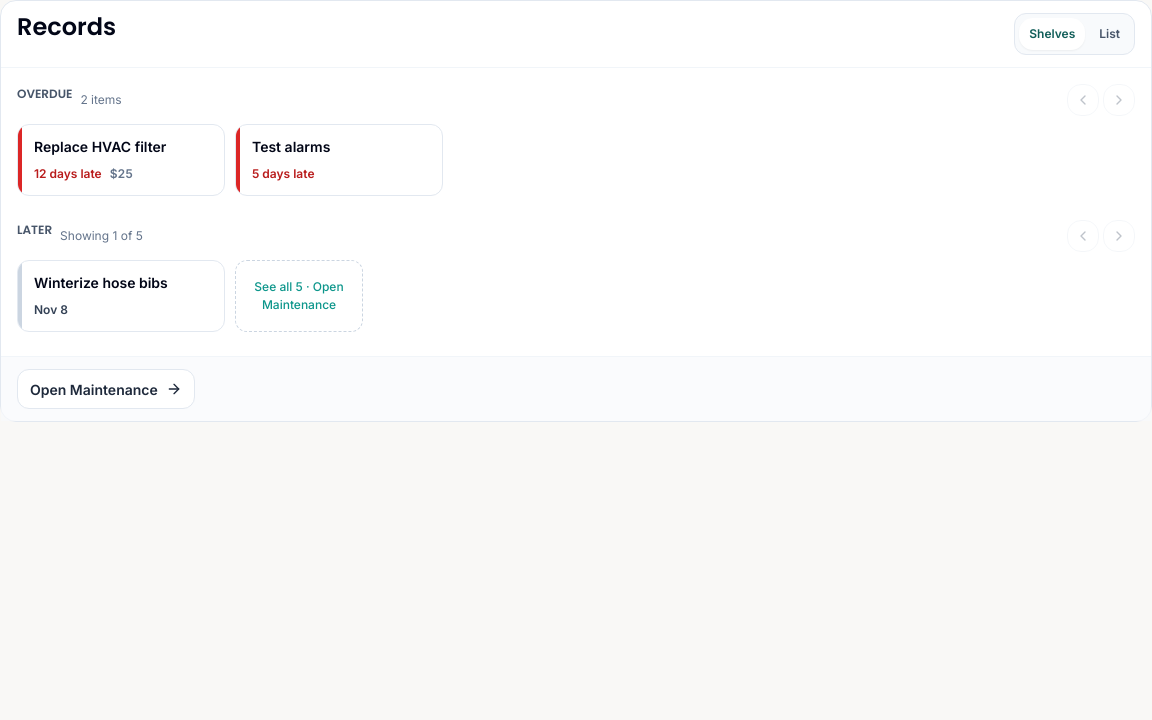
Test: shelves › tapping a card opens its detail in place, and its action is sent with the item identity
The width and height of the screenshot is (1152, 720).
Click the button "Replace HVAC filter 12 days late $25": (121, 160) [17,124,225,196]
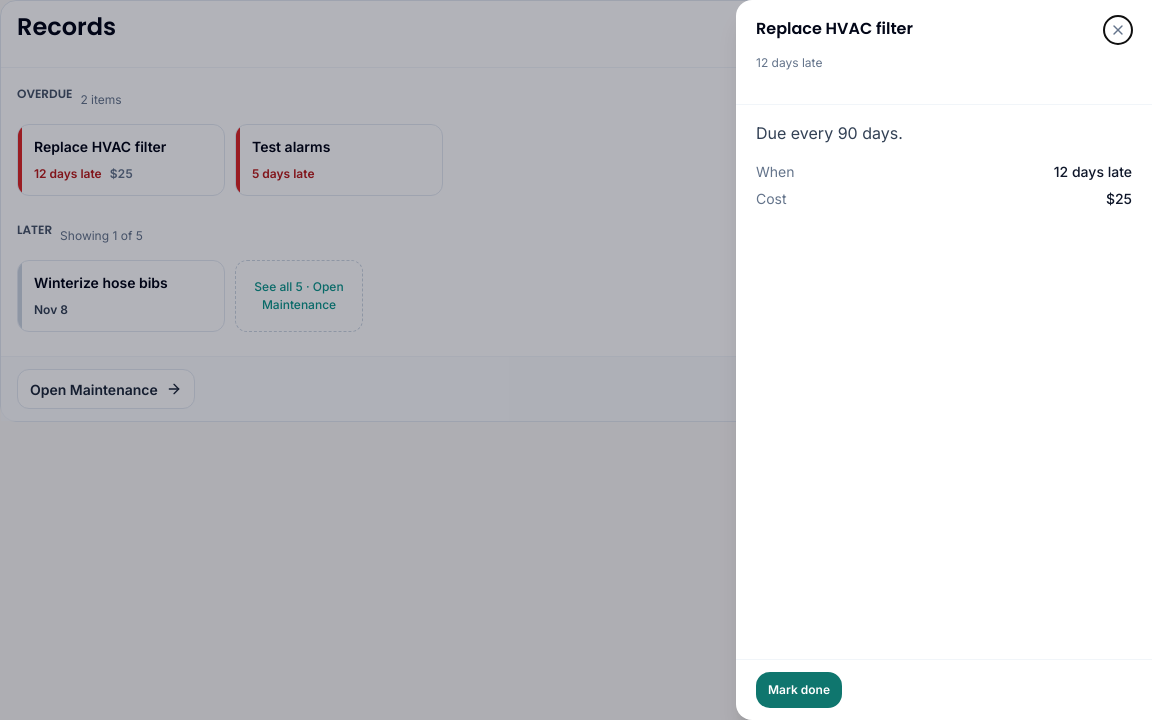
Expected: the text "Due every 90 days." is shown, [756,123,903,143]
Expected: the text "$25" is shown, [1106,190,1132,207]
Click the button "Mark done": (799, 690) [756,672,842,708]
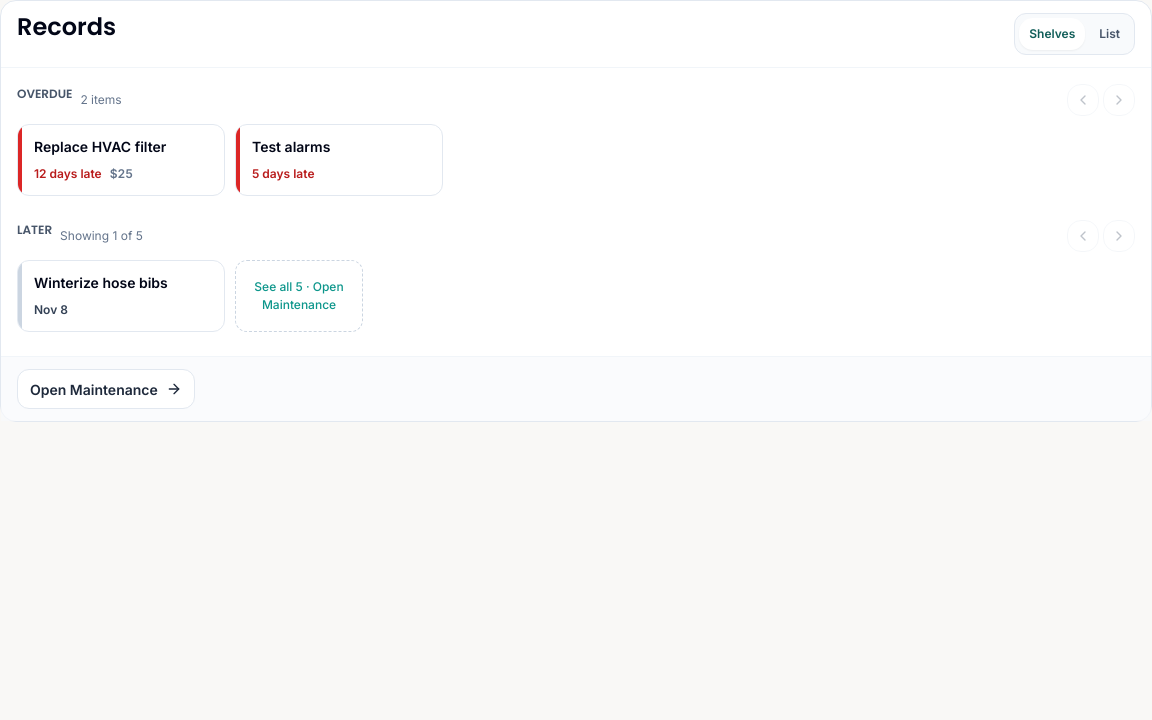
Expected: the dialog is gone
